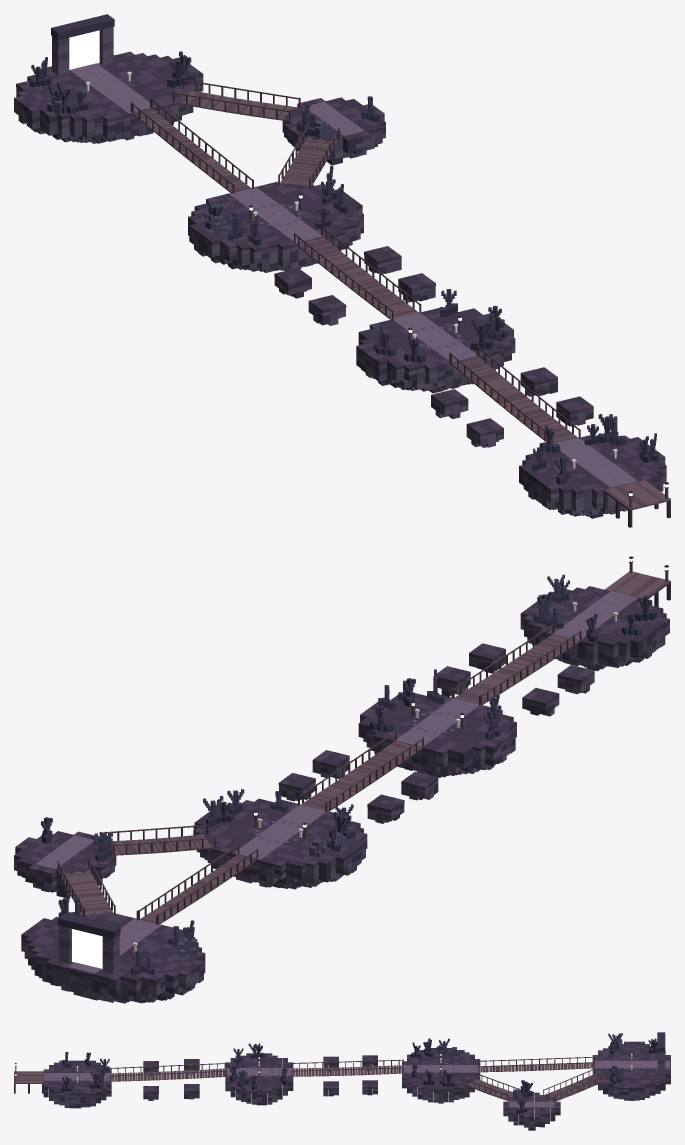
Rendered from sky_route_polluted.glb.
The picture shows the model from 3 angles, top to bottom: view 1: azimuth 30°, elevation 25°; view 2: azimuth 150°, elevation 25°; view 3: azimuth 270°, elevation 25°; orthographic projection. The views are drawn at different scales.
Parts seen in each view (by area): view 1: sky_route_blocks; view 2: sky_route_blocks; view 3: sky_route_blocks.
Boxes of the visible parts, <box> form: sky_route_blocks: <box>14,14,670,527</box>; sky_route_blocks: <box>14,556,670,1003</box>; sky_route_blocks: <box>14,1032,670,1130</box>.
Bounding box in the file's own units: 38.39 × 16.2 × 145.
